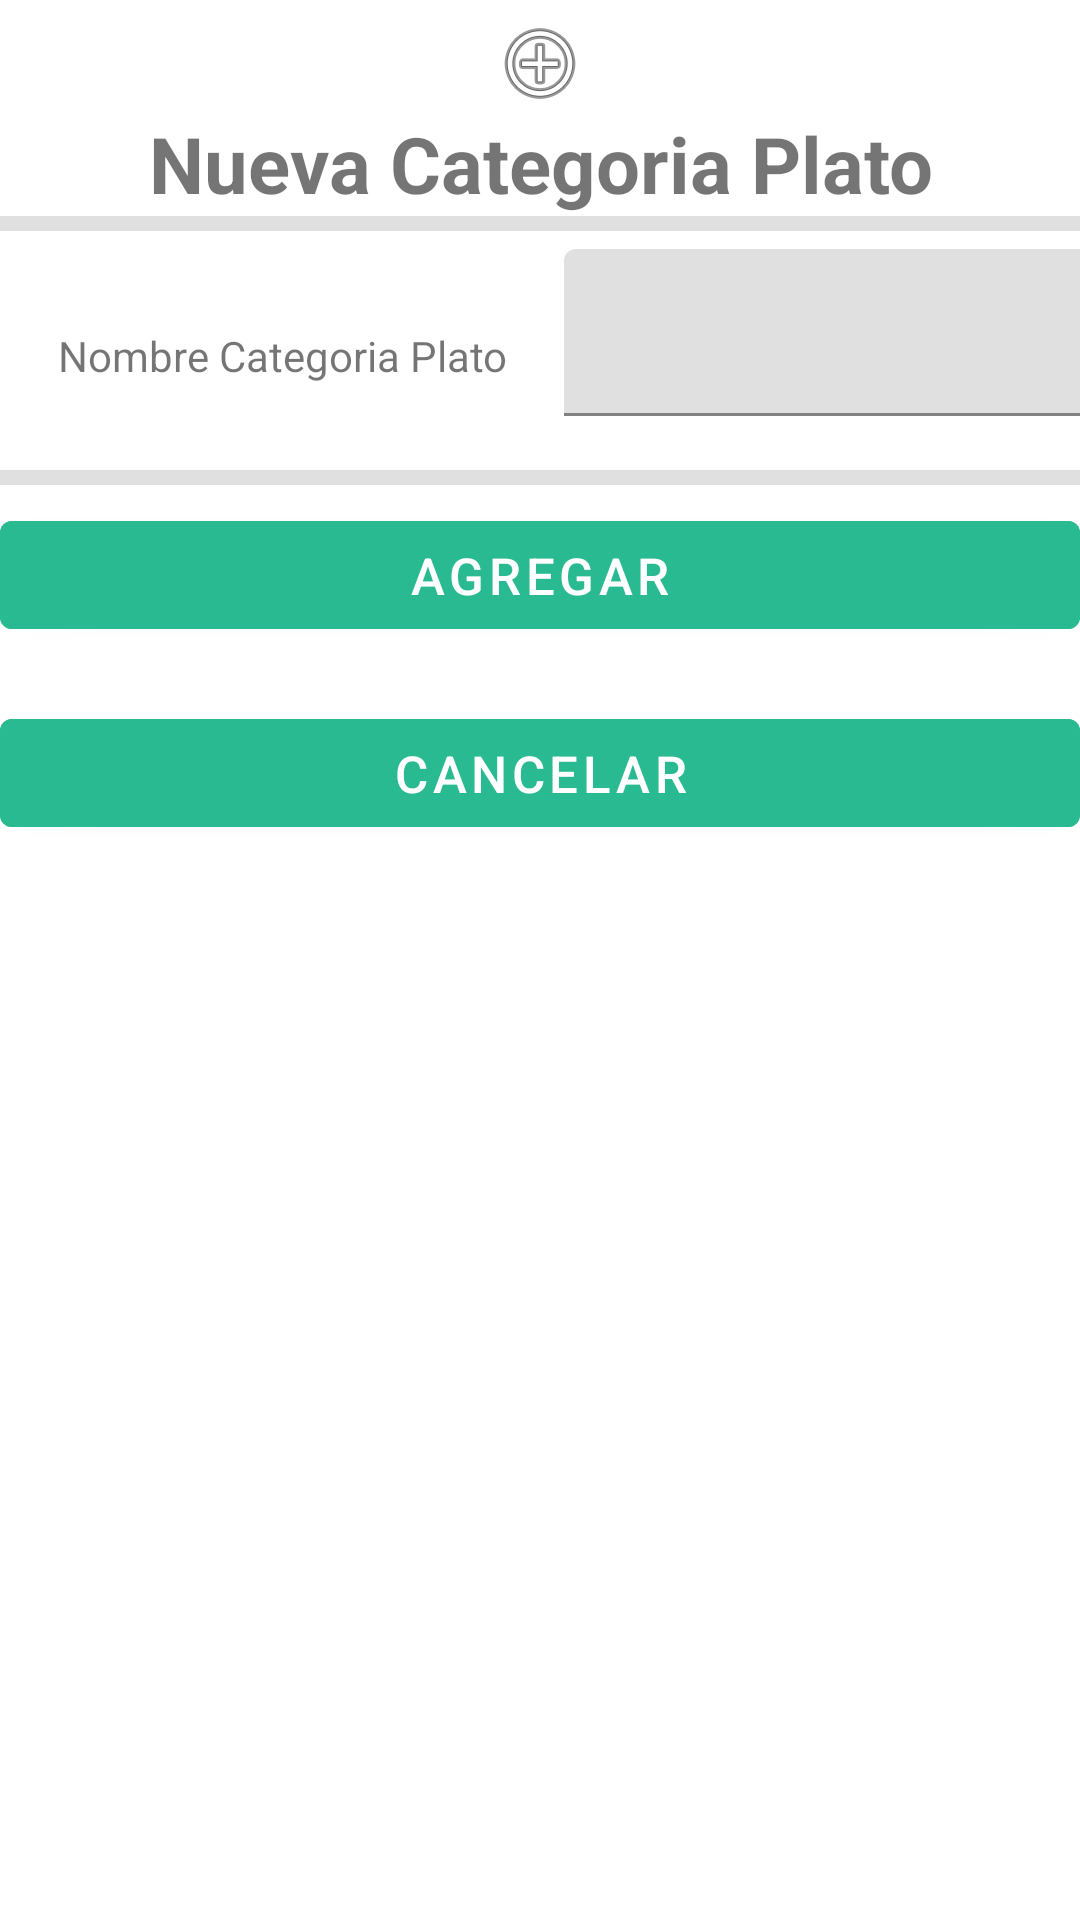

Named icons in this screenshot (1080w x 1920h) and their bounding boxes, [left=x1, top=y1, right=x2, bottom=y2]:
add: [left=504, top=28, right=576, bottom=99]
